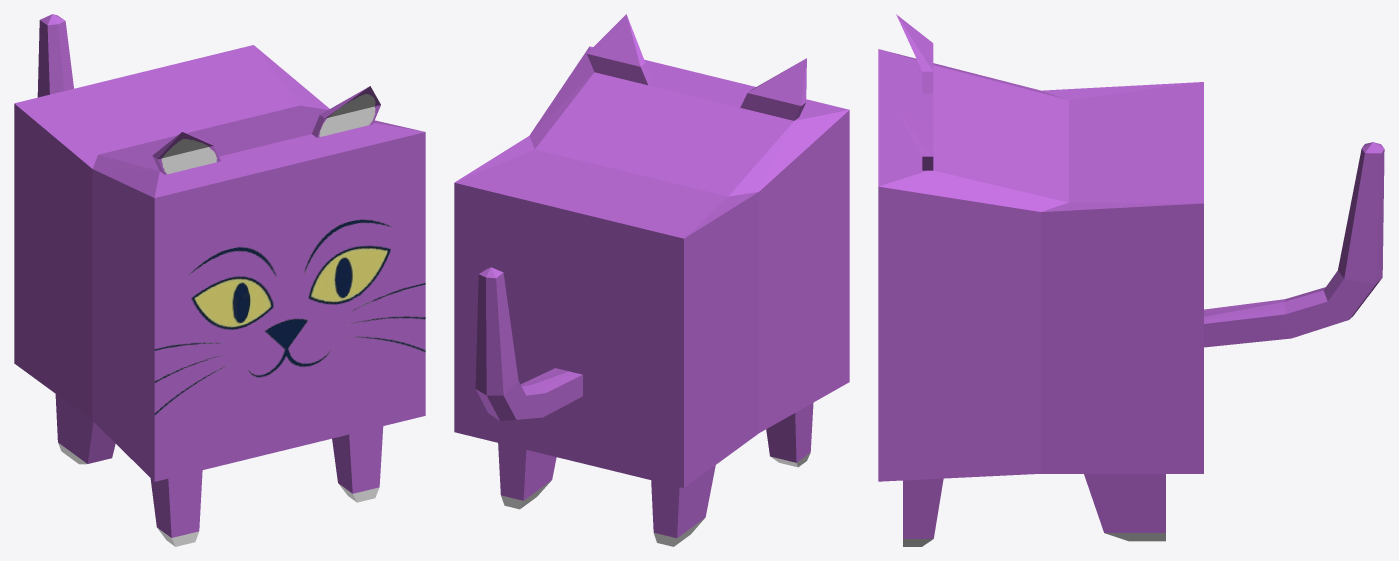
File: кит.fbx
The picture shows the model from 3 angles, left to right: view 1: azimuth 30°, elevation 25°; view 2: azimuth 150°, elevation 25°; view 3: azimuth 270°, elevation 25°; orthographic projection. The views are drawn at different scales.
Parts seen in each view (by area): view 1: кит; view 2: кит; view 3: кит.
Part boxes in pixels (bbox=[...]): кит: bbox=[14, 14, 425, 546]; кит: bbox=[454, 14, 849, 546]; кит: bbox=[878, 14, 1384, 546].
Size of the model in its own units: 27.66 by 40.62 by 42.99.
